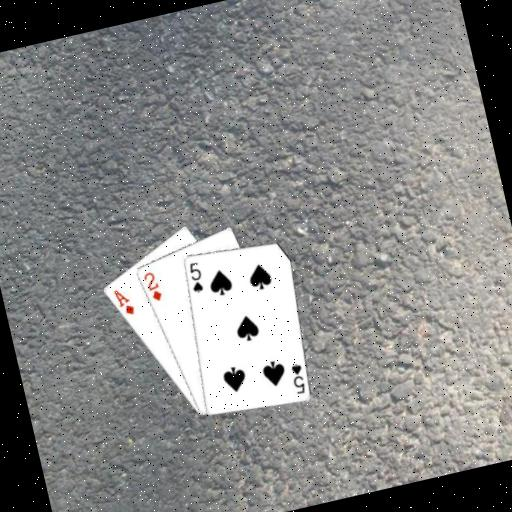2D: (139, 268, 164, 305)
5S: (184, 258, 207, 295), (286, 359, 308, 396)
AD: (110, 283, 137, 319)
